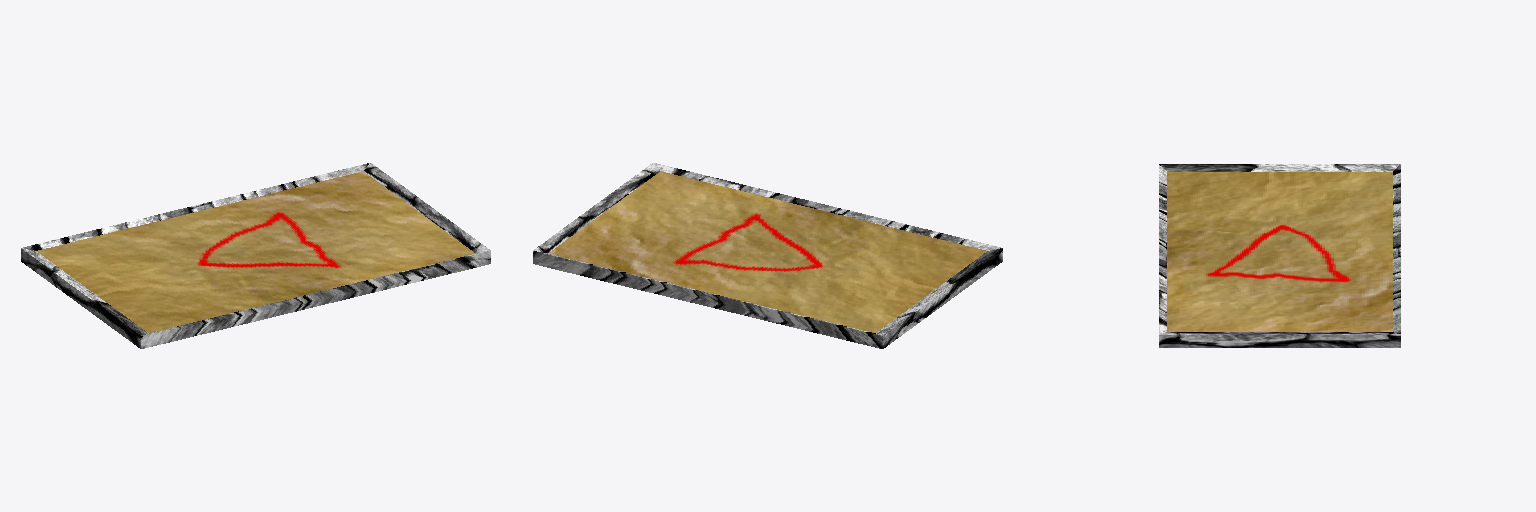
The picture shows the model from 3 angles: view 1: azimuth 30°, elevation 25°; view 2: azimuth 150°, elevation 25°; view 3: azimuth 270°, elevation 25°; orthographic projection.
Visible parts, largest first — view 1: cube1; view 2: cube1; view 3: cube1.
Part boxes in pixels (x1,y1,x2,y2): cube1: (21,163,490,348); cube1: (533,163,1002,348); cube1: (1159,164,1400,347).
Bounding box in the file's own units: 0.3356 × 0.0121 × 0.2.
1 materials, 1 textured.